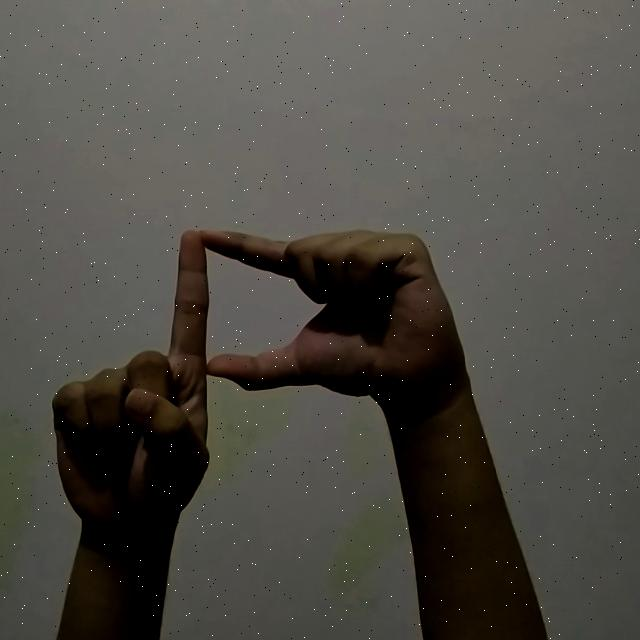D: (44, 213, 476, 538)
